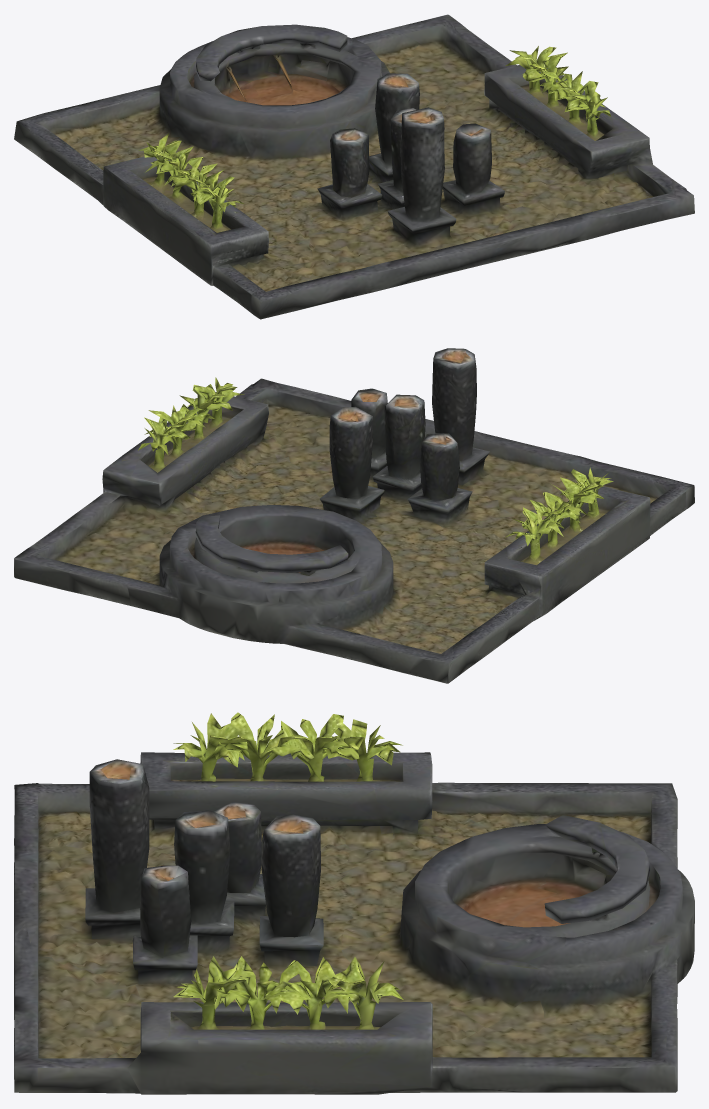
The model's file is taman_belakang_tangga.glb.
3 views of the same model, one above another, from view 1: azimuth 30°, elevation 25°; view 2: azimuth 150°, elevation 25°; view 3: azimuth 270°, elevation 25° (orthographic). The views are drawn at different scales.
Parts seen in each view (by area): view 1: tripo_node_c2550a1b-95f1-440a-8f57-cc66f84ad2c7; view 2: tripo_node_c2550a1b-95f1-440a-8f57-cc66f84ad2c7; view 3: tripo_node_c2550a1b-95f1-440a-8f57-cc66f84ad2c7.
Part boxes in pixels (<box>): tripo_node_c2550a1b-95f1-440a-8f57-cc66f84ad2c7: <box>14,14,694,319</box>; tripo_node_c2550a1b-95f1-440a-8f57-cc66f84ad2c7: <box>14,348,694,683</box>; tripo_node_c2550a1b-95f1-440a-8f57-cc66f84ad2c7: <box>14,712,694,1094</box>.
Size of the model in its own units: 1 by 0.2749 by 0.9994.
Materials: 1 (1 with a texture image).
